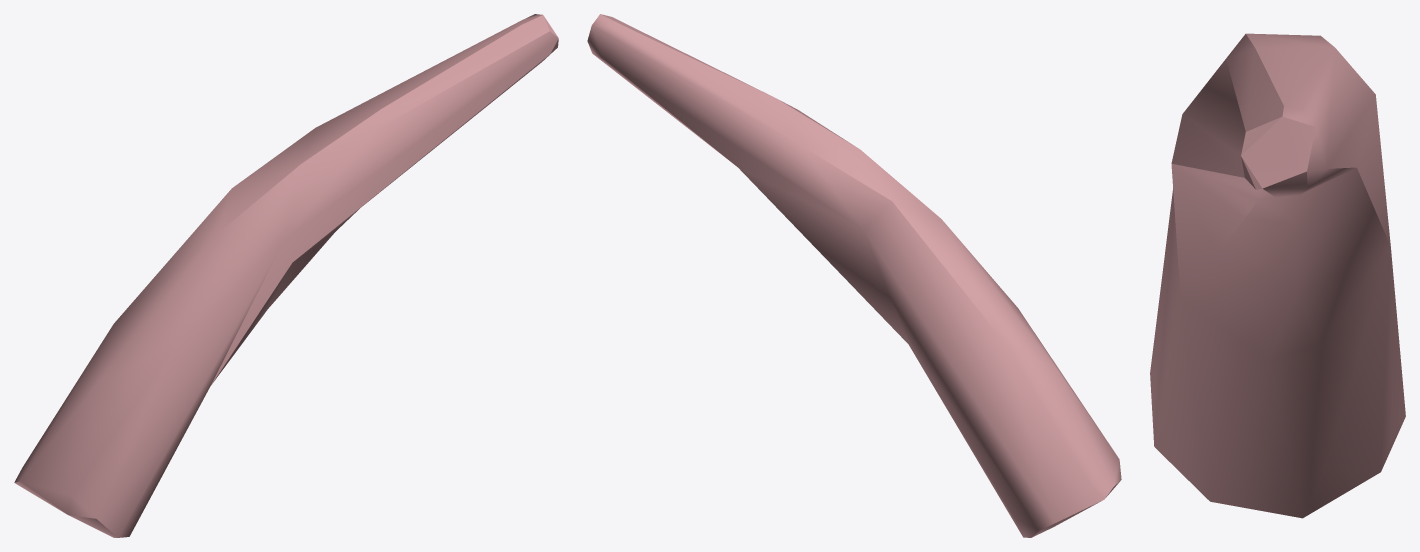
Rendered from fma68228_fj6524.glb.
The picture shows the model from 3 angles, left to right: view 1: azimuth 30°, elevation 25°; view 2: azimuth 150°, elevation 25°; view 3: azimuth 270°, elevation 25°; orthographic projection. The views are drawn at different scales.
Visible parts, largest first — view 1: FMA68228_FJ6524; view 2: FMA68228_FJ6524; view 3: FMA68228_FJ6524.
Part boxes in pixels (bbox=[...]): FMA68228_FJ6524: bbox=[14, 14, 558, 537]; FMA68228_FJ6524: bbox=[587, 14, 1121, 537]; FMA68228_FJ6524: bbox=[1150, 33, 1405, 518].
Bounding box in the file's own units: 0.021 × 0.0156 × 0.00441.
